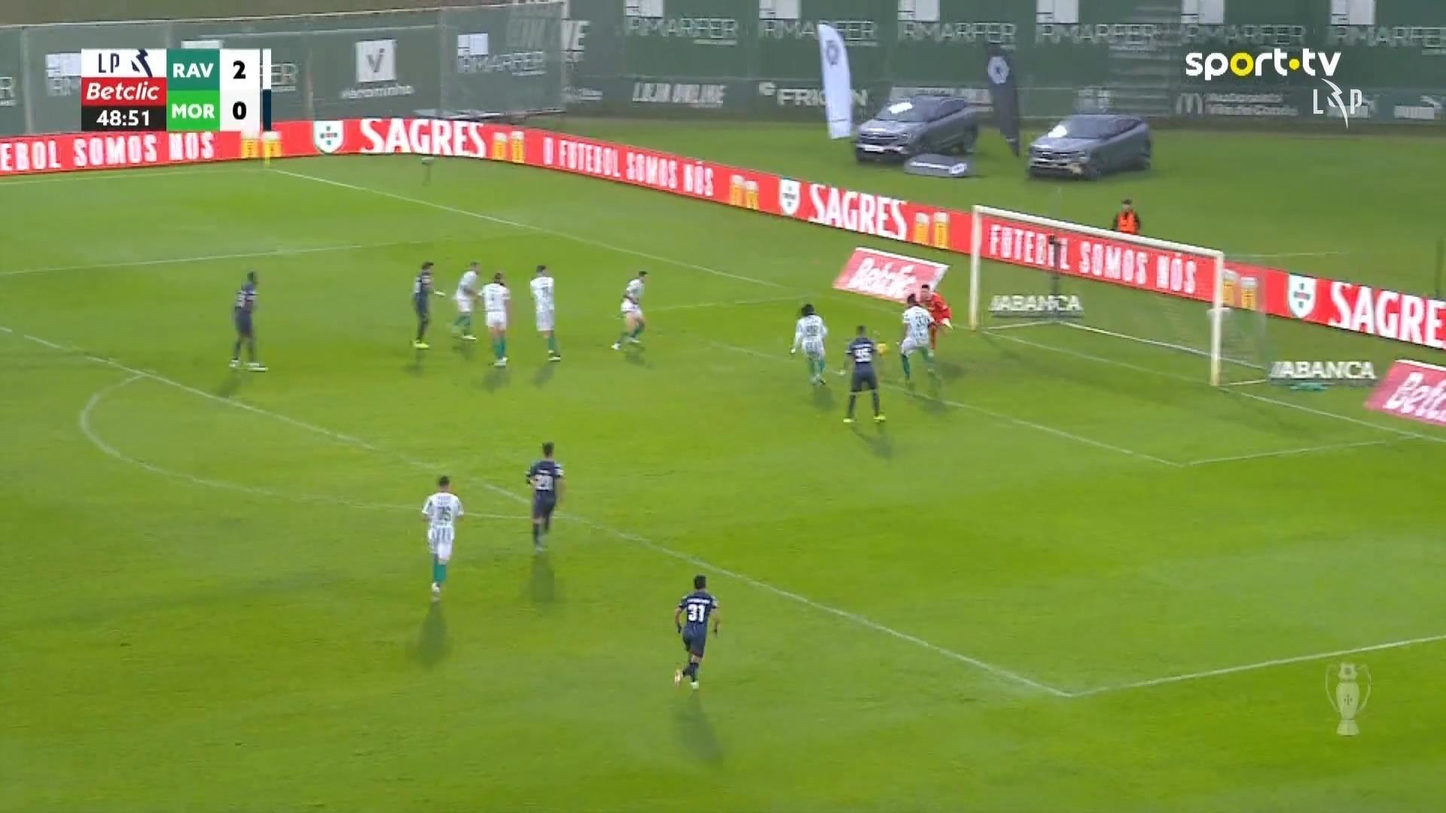ball: (875, 342, 887, 355)
goalkeeper: (917, 282, 952, 345)
player: (419, 474, 463, 601), (672, 574, 720, 690), (837, 324, 888, 424), (524, 440, 566, 553), (898, 292, 942, 385), (227, 270, 264, 369), (478, 270, 511, 367), (789, 303, 828, 385), (529, 263, 561, 361), (410, 260, 444, 349), (611, 269, 648, 350), (450, 260, 481, 340)
